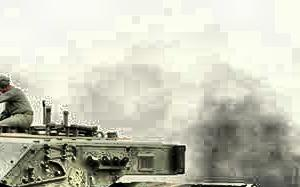tanks: (1, 110, 256, 187)
